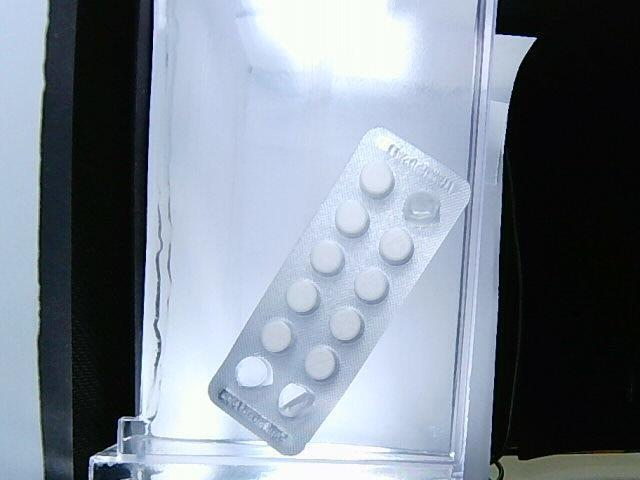Light Front: (207, 128, 471, 458)
No Pill Front: (279, 383, 315, 417), (404, 191, 440, 224), (235, 356, 272, 386)
Pill Front: (359, 160, 395, 198), (379, 228, 414, 265), (335, 200, 370, 236), (310, 240, 345, 275), (354, 269, 389, 303), (329, 308, 364, 342), (286, 279, 319, 314), (261, 318, 294, 353), (305, 345, 338, 380)
